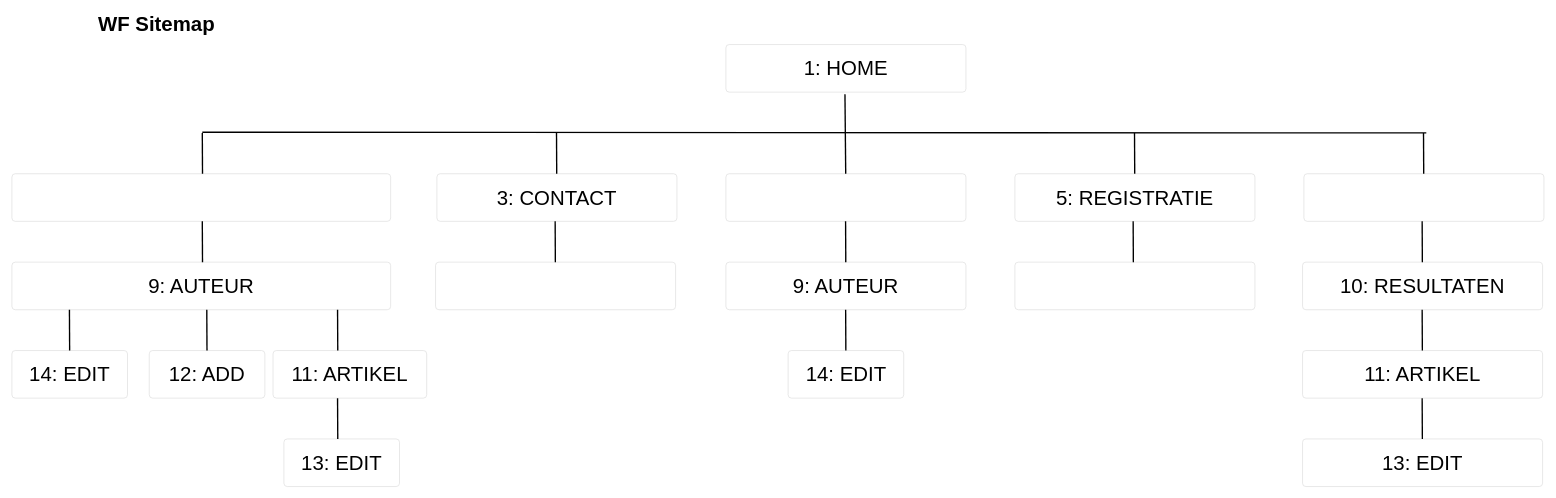
The diagram is 1556 pixels wide and 498 high, and some of its shapes have lost their labels. Here are the shapes that lost their labels. From the top down, the centre of each, then its label:
point 201,197: 2: ABOUT
point 845,197: 4: INLOG
point 1423,197: 6: ZOEK
point 555,285: 7: REACTIE
point 1134,285: 8: REACTIE
